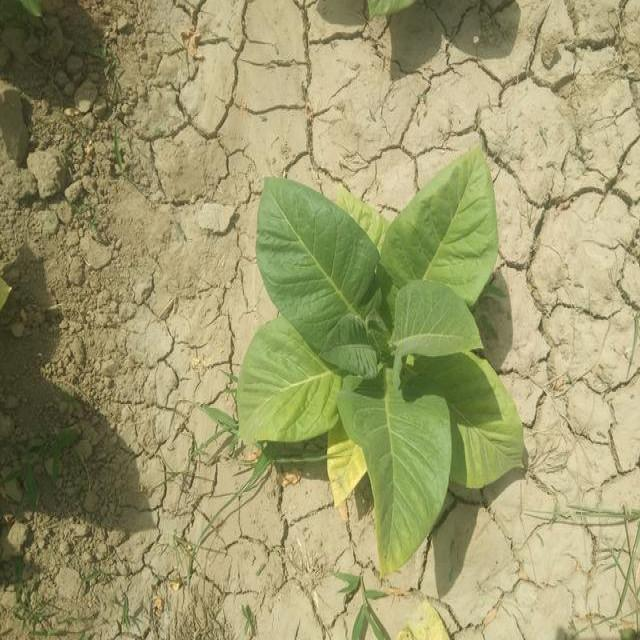crop: (234, 139, 526, 564)
